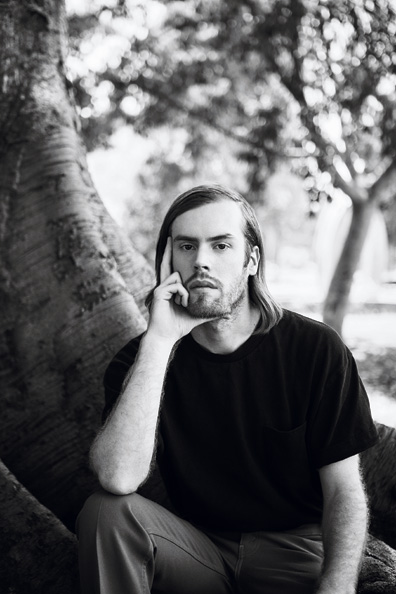Person: (77, 180, 380, 590)
